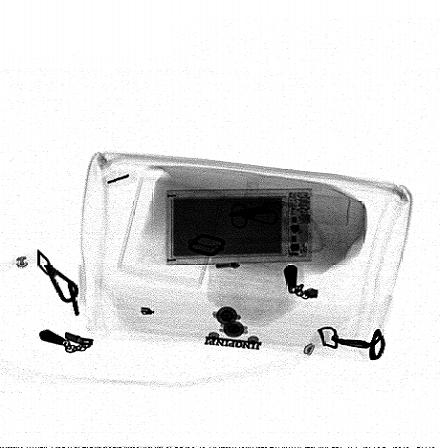Powerbank: (165, 187, 315, 267)
